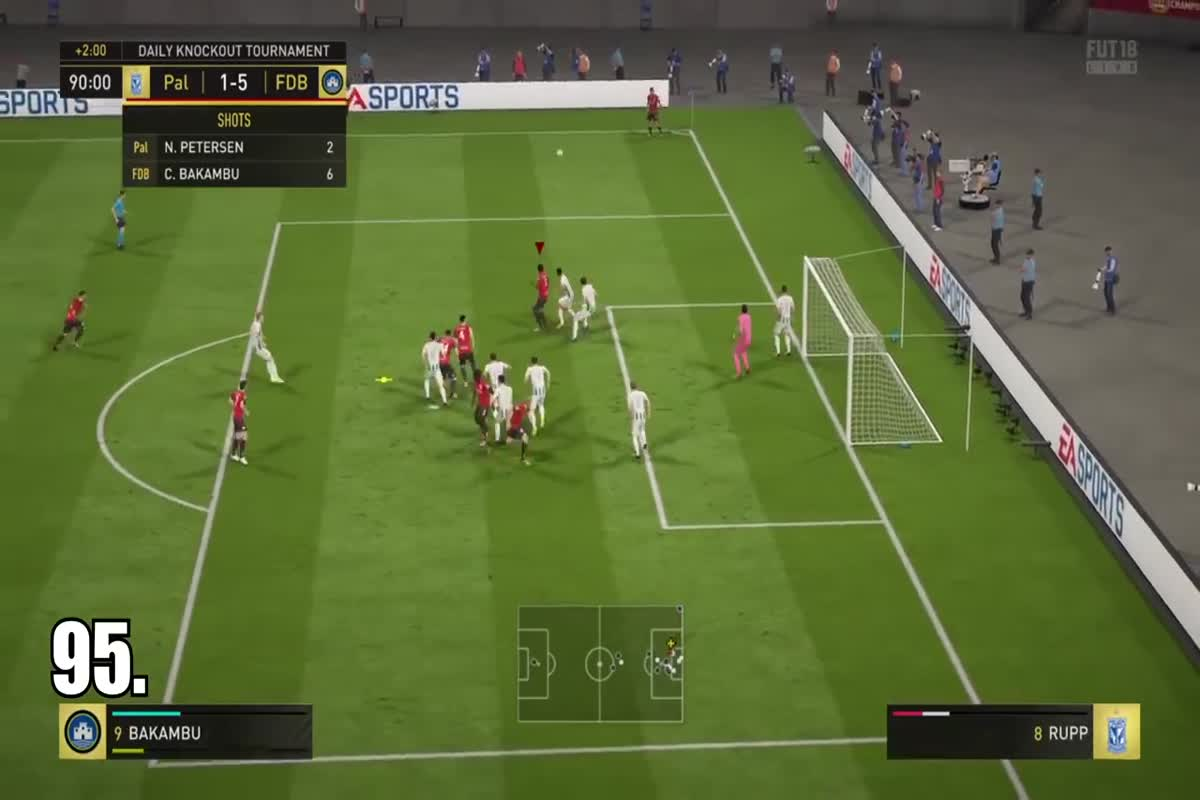ball: (546, 141, 572, 162)
